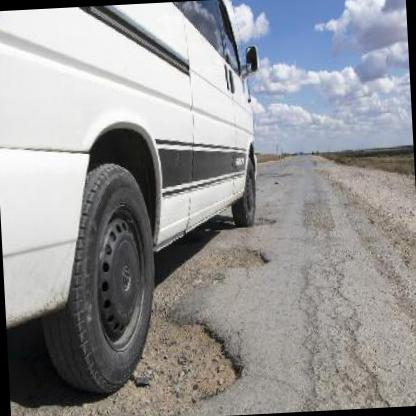pothole: (111, 300, 248, 416), (199, 241, 270, 272), (250, 212, 276, 226)
